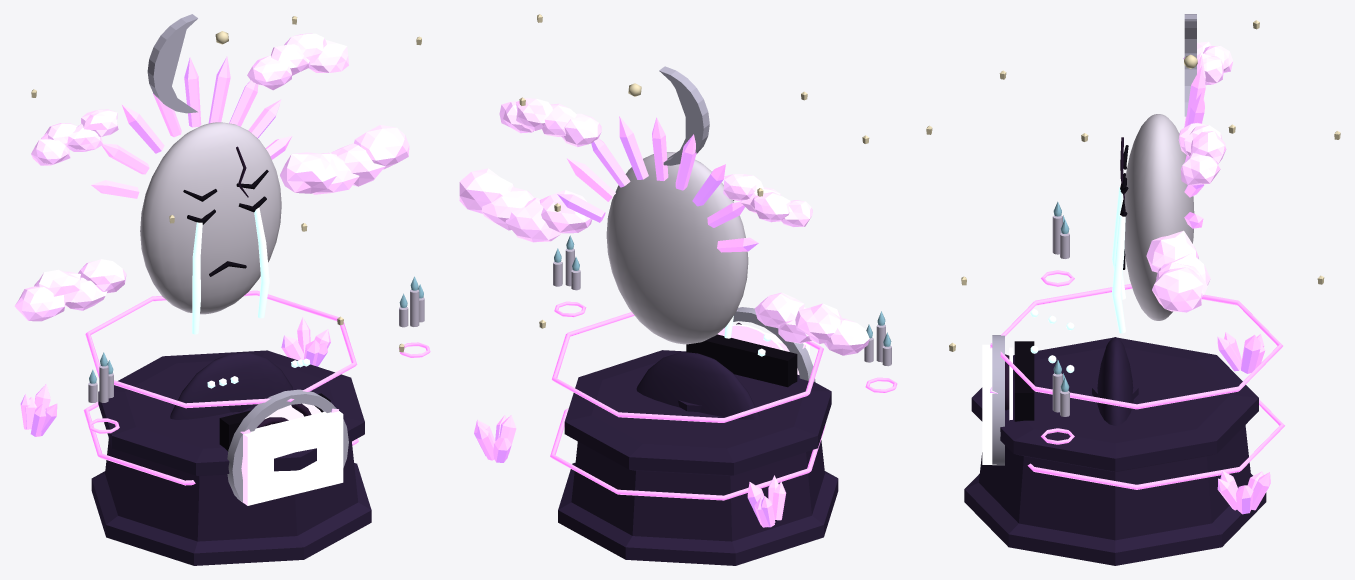
The model's file is NightmareLamentFurnace_Roblox.fbx.
3 renders of one model, left to right at view 1: azimuth 30°, elevation 25°; view 2: azimuth 150°, elevation 25°; view 3: azimuth 270°, elevation 25°, orthographic. The views are drawn at different scales.
Visible parts, largest first — view 1: DreamObsidian, PorcelainMask, DreamCloud, DreamCrystal, BurnZone, MoonSilver, PinkTrim, DreamTears, VoidBlack, CandleWax; view 2: DreamObsidian, PorcelainMask, DreamCloud, DreamCrystal, PinkTrim, VoidBlack, MoonSilver, CandleWax, DreamVortex; view 3: DreamObsidian, PorcelainMask, DreamCloud, PinkTrim, DreamCrystal, MoonSilver, VoidBlack, DreamTears, BurnZone, CandleWax, Starlight.
Boxes of the visible parts, x1,y1,x2,y2 form: DreamObsidian: [91, 350, 371, 565]; PorcelainMask: [140, 122, 281, 314]; DreamCloud: [14, 33, 409, 321]; DreamCrystal: [20, 56, 338, 436]; BurnZone: [241, 411, 343, 505]; MoonSilver: [147, 14, 348, 502]; PinkTrim: [83, 290, 430, 485]; DreamTears: [192, 207, 310, 388]; VoidBlack: [183, 170, 330, 451]; CandleWax: [88, 289, 424, 402]; DreamObsidian: [558, 350, 838, 565]; PorcelainMask: [606, 152, 748, 344]; DreamCloud: [459, 98, 869, 355]; DreamCrystal: [474, 116, 805, 527]; PinkTrim: [550, 301, 897, 500]; VoidBlack: [686, 200, 797, 387]; MoonSilver: [659, 66, 815, 382]; CandleWax: [553, 248, 891, 366]; DreamVortex: [717, 324, 783, 350]; DreamObsidian: [964, 337, 1266, 565]; PorcelainMask: [1123, 114, 1194, 320]; DreamCloud: [1146, 41, 1233, 312]; PinkTrim: [990, 270, 1284, 489]; DreamCrystal: [990, 55, 1270, 514]; MoonSilver: [992, 14, 1196, 465]; VoidBlack: [1014, 145, 1128, 421]; DreamTears: [1030, 185, 1125, 372]; BurnZone: [982, 344, 996, 464]; CandleWax: [1052, 215, 1069, 416]; Starlight: [926, 20, 1340, 351].
Bounding box in the file's own units: 1326 × 1605 × 1153.
